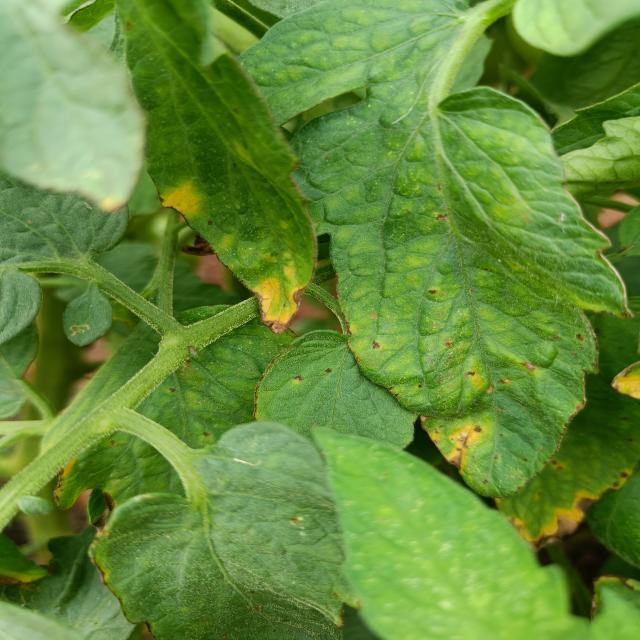Tomato mosaic virus leaf: (324, 210, 636, 508), (148, 157, 322, 343)
